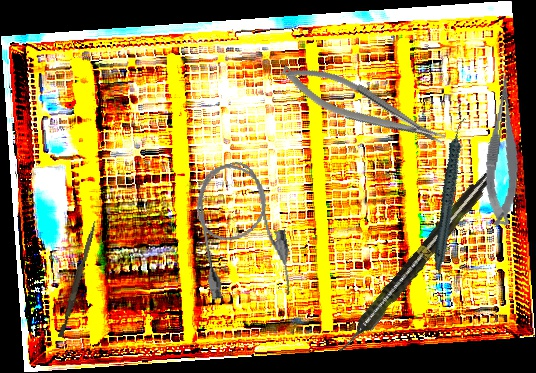Cannula: (186, 155, 298, 310)
Handpiece: (333, 168, 497, 359), (403, 116, 498, 272)
Micro Scissor: (477, 73, 532, 228)
Needle Holder: (275, 51, 450, 162)
Pusher: (57, 219, 98, 339)
